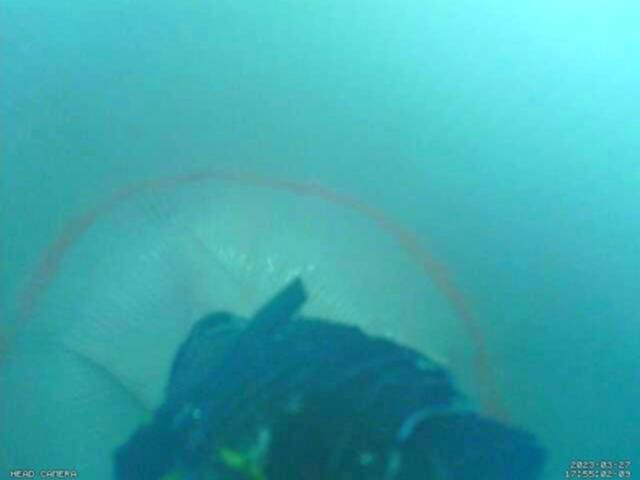head: (0, 170, 510, 424)
